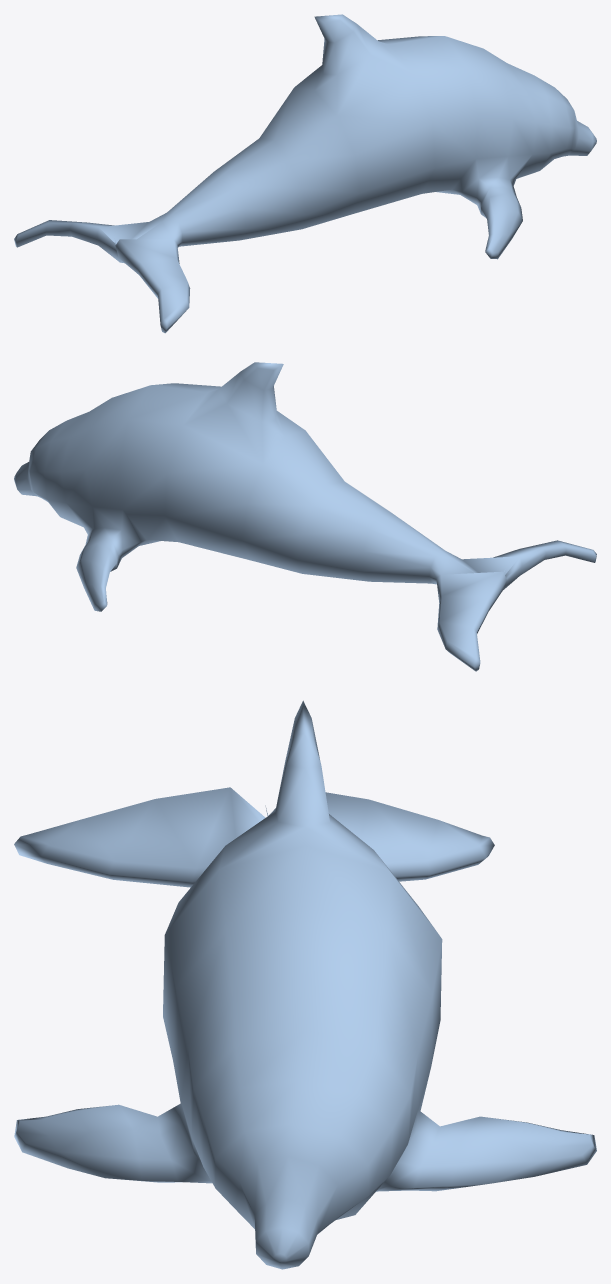
3 views of the same model, one above another, from view 1: azimuth 30°, elevation 25°; view 2: azimuth 150°, elevation 25°; view 3: azimuth 270°, elevation 25° (orthographic). The views are drawn at different scales.
Visible parts, largest first — view 1: plushie dolphin; view 2: plushie dolphin; view 3: plushie dolphin.
Boxes of the visible parts, x1,y1,x2,y2 form: plushie dolphin: (14,14,596,333); plushie dolphin: (14,362,596,671); plushie dolphin: (14,700,596,1269).
Bounding box in the file's own units: 69.2 × 27.03 × 38.35.
